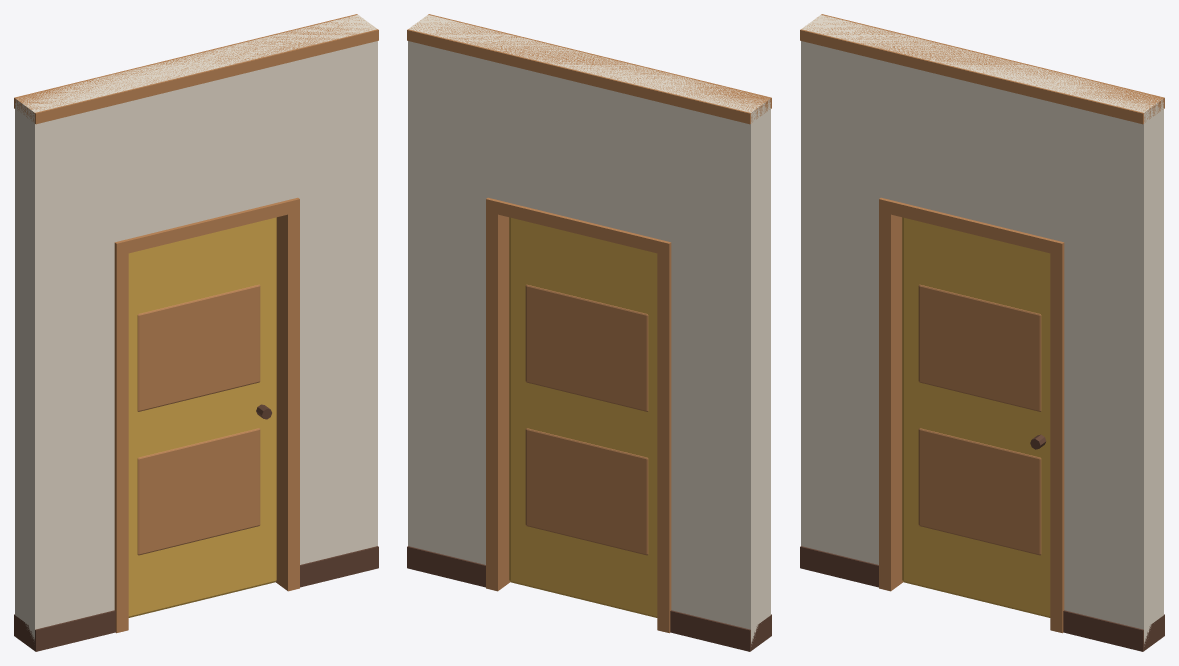
The model's file is wall_door_2m.glb.
3 views of the same model, side by side, from view 1: azimuth 30°, elevation 25°; view 2: azimuth 150°, elevation 25°; view 3: azimuth 330°, elevation 25° (orthographic).
Visible parts, largest first — view 1: Wall, DoorLeaf; view 2: Wall, DoorLeaf; view 3: Wall, DoorLeaf.
Part boxes in pixels (x1,y1,x2,y2): Wall: (14, 14, 378, 651); DoorLeaf: (128, 217, 276, 617); Wall: (407, 14, 771, 651); DoorLeaf: (509, 217, 657, 617); Wall: (800, 14, 1164, 651); DoorLeaf: (902, 217, 1050, 617).
Size of the model in its own units: 2 by 3 by 0.24.
